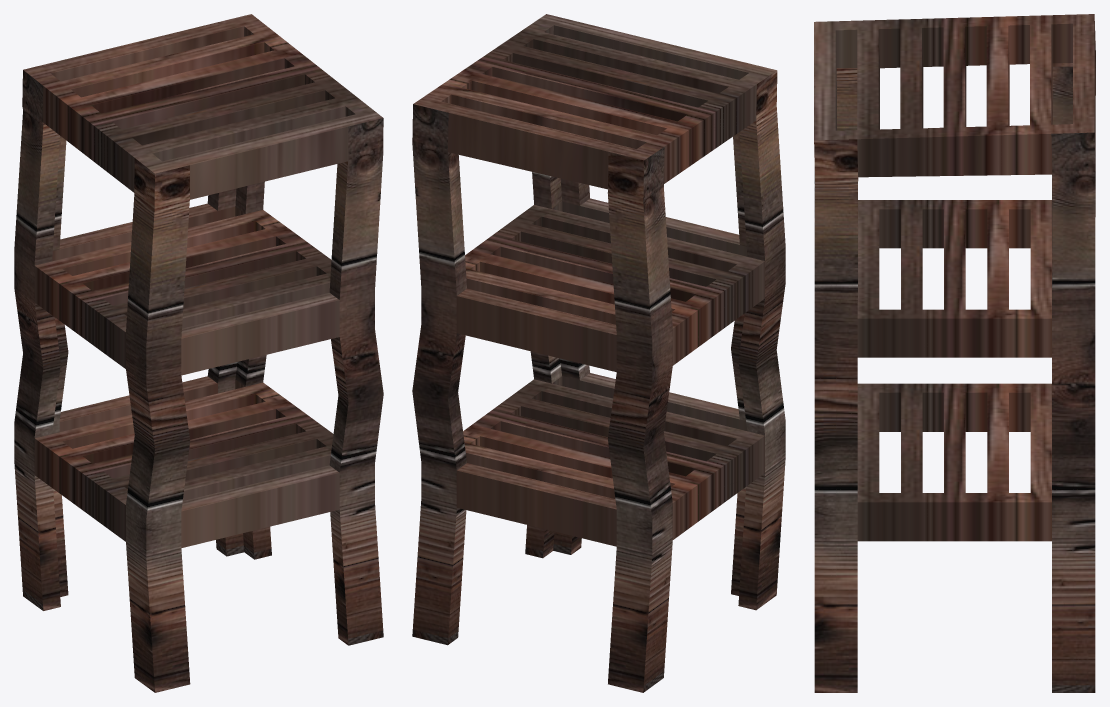
Rendered from Kast.fbx.
The picture shows the model from 3 angles, left to right: view 1: azimuth 30°, elevation 25°; view 2: azimuth 150°, elevation 25°; view 3: azimuth 270°, elevation 25°; orthographic projection. The views are drawn at different scales.
Parts seen in each view (by area): view 1: Kast_Object; view 2: Kast_Object; view 3: Kast_Object.
Part boxes in pixels (x1,y1,x2,y2): Kast_Object: (14, 14, 383, 692); Kast_Object: (412, 14, 785, 692); Kast_Object: (814, 14, 1095, 692).
Size of the model in its own units: 408 by 865 by 394.
